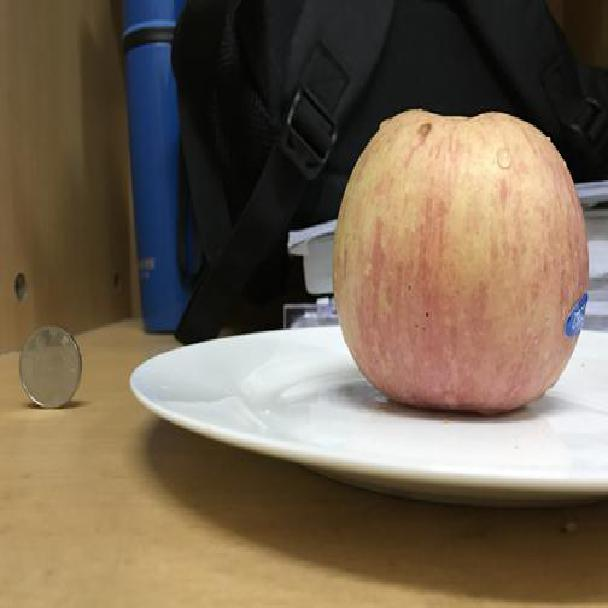apple: (331, 103, 596, 419)
